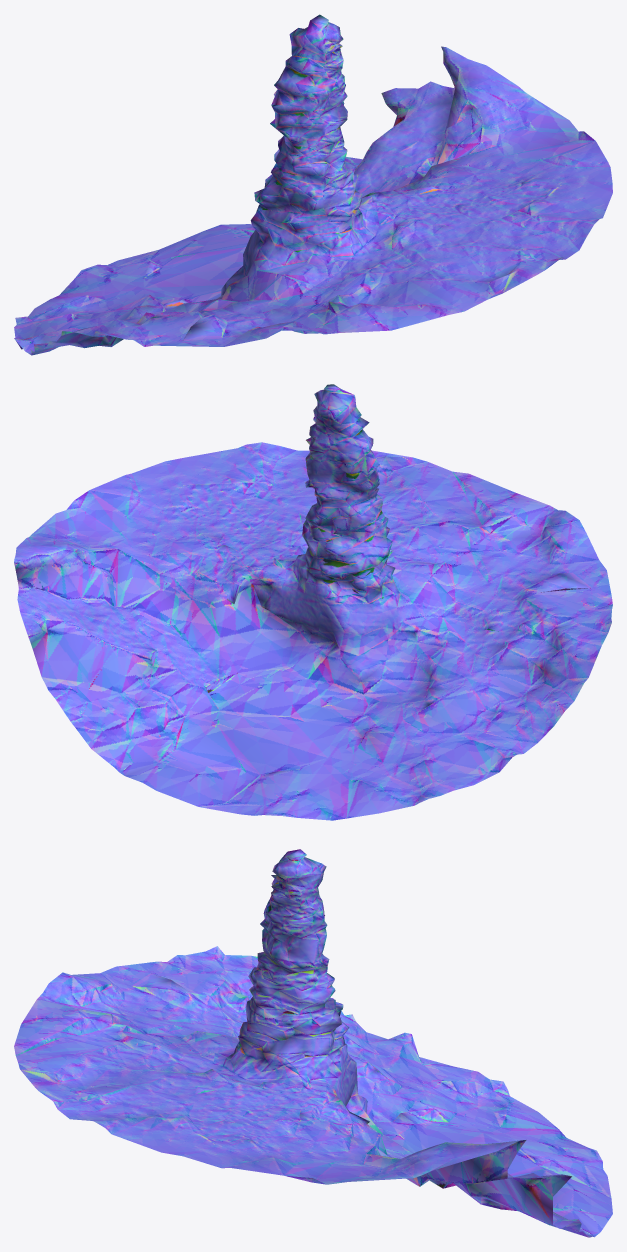
The model's file is Cairn.fbx.
3 renders of one model, top to bottom at view 1: azimuth 30°, elevation 25°; view 2: azimuth 150°, elevation 25°; view 3: azimuth 270°, elevation 25°, orthographic. The views are drawn at different scales.
Visible parts, largest first — view 1: Cairn; view 2: Cairn; view 3: Cairn.
Boxes of the visible parts, <box> form: Cairn: <box>14,14,612,355</box>; Cairn: <box>14,384,612,820</box>; Cairn: <box>14,849,612,1237</box>.
Size of the model in its own units: 190 by 114 by 176.
1 material, 1 textured.
